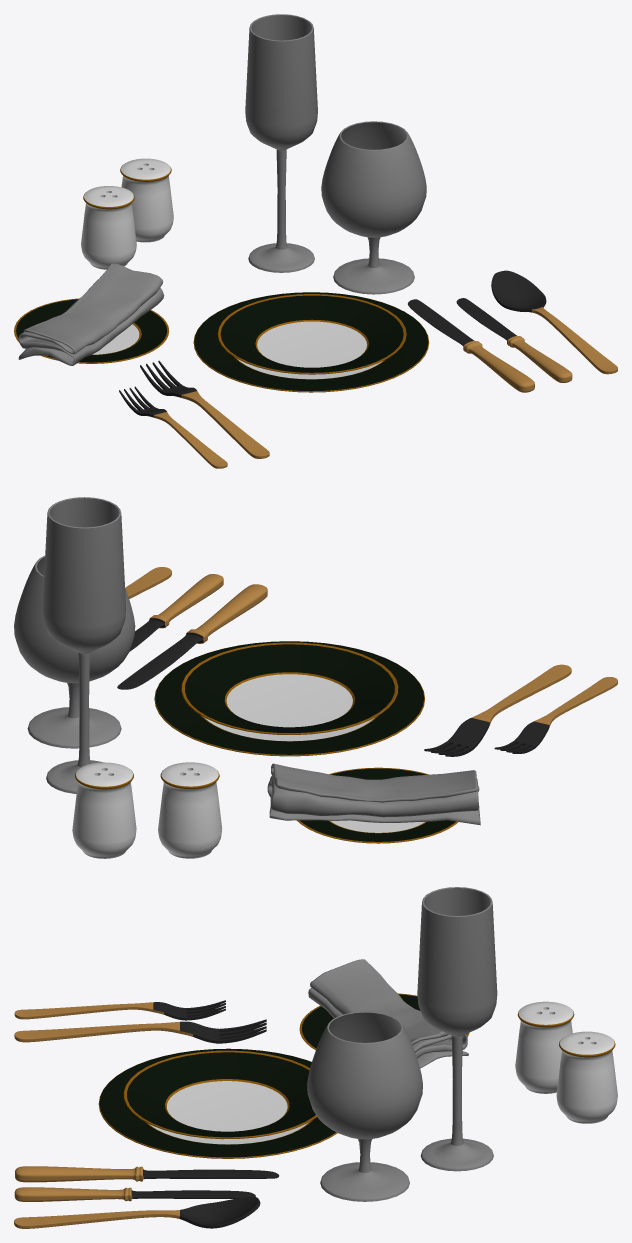
3 views of the same model, one above another, from view 1: azimuth 30°, elevation 25°; view 2: azimuth 150°, elevation 25°; view 3: azimuth 270°, elevation 25° (orthographic). The views are drawn at different scales.
Parts seen in each view (by area): view 1: glass, Soup plate, glass01, napkin, Big plate, pepper, Salt, Shmall plate, Table spoon, Knife, fork, Knife01 (+1 smaller); view 2: Soup plate, glass01, napkin, Big plate, glass, Salt, pepper, Shmall plate, Knife, fork, fork01, Knife01 (+1 smaller); view 3: glass, Soup plate, glass01, Big plate, napkin, Salt, pepper, Table spoon, Knife, fork, Knife01, fork01 (+1 smaller).
Part boxes in pixels (bbox=[...]): glass: bbox=[321, 121, 426, 294]; Soup plate: bbox=[217, 294, 406, 374]; glass01: bbox=[245, 14, 317, 272]; napkin: bbox=[18, 263, 164, 365]; Big plate: bbox=[193, 292, 429, 392]; pepper: bbox=[81, 186, 136, 269]; Salt: bbox=[120, 158, 173, 242]; Shmall plate: bbox=[14, 298, 169, 363]; Table spoon: bbox=[491, 270, 617, 374]; Knife: bbox=[408, 299, 534, 392]; fork: bbox=[140, 360, 269, 458]; Knife01: bbox=[456, 298, 572, 382]; Soup plate: bbox=[181, 642, 398, 734]; glass01: bbox=[42, 497, 126, 793]; napkin: bbox=[267, 763, 480, 825]; Big plate: bbox=[154, 641, 424, 756]; glass: bbox=[14, 555, 135, 748]; Salt: bbox=[72, 762, 136, 858]; pepper: bbox=[158, 762, 222, 858]; Shmall plate: bbox=[297, 767, 458, 843]; Knife: bbox=[117, 584, 267, 689]; fork: bbox=[424, 664, 571, 756]; fork01: bbox=[494, 677, 617, 753]; Knife01: bbox=[129, 574, 223, 651]; glass: bbox=[307, 1011, 422, 1201]; Soup plate: bbox=[123, 1050, 317, 1139]; glass01: bbox=[417, 887, 497, 1171]; Big plate: bbox=[98, 1048, 337, 1158]; napkin: bbox=[308, 959, 468, 1068]; Salt: bbox=[556, 1031, 617, 1123]; pepper: bbox=[515, 1001, 574, 1093]; Table spoon: bbox=[14, 1197, 260, 1228]; Knife: bbox=[15, 1166, 279, 1182]; fork: bbox=[14, 1019, 266, 1043]; Knife01: bbox=[14, 1187, 255, 1201]; fork01: bbox=[14, 1000, 225, 1020].
Size of the model in its own units: 522 by 254 by 547.
